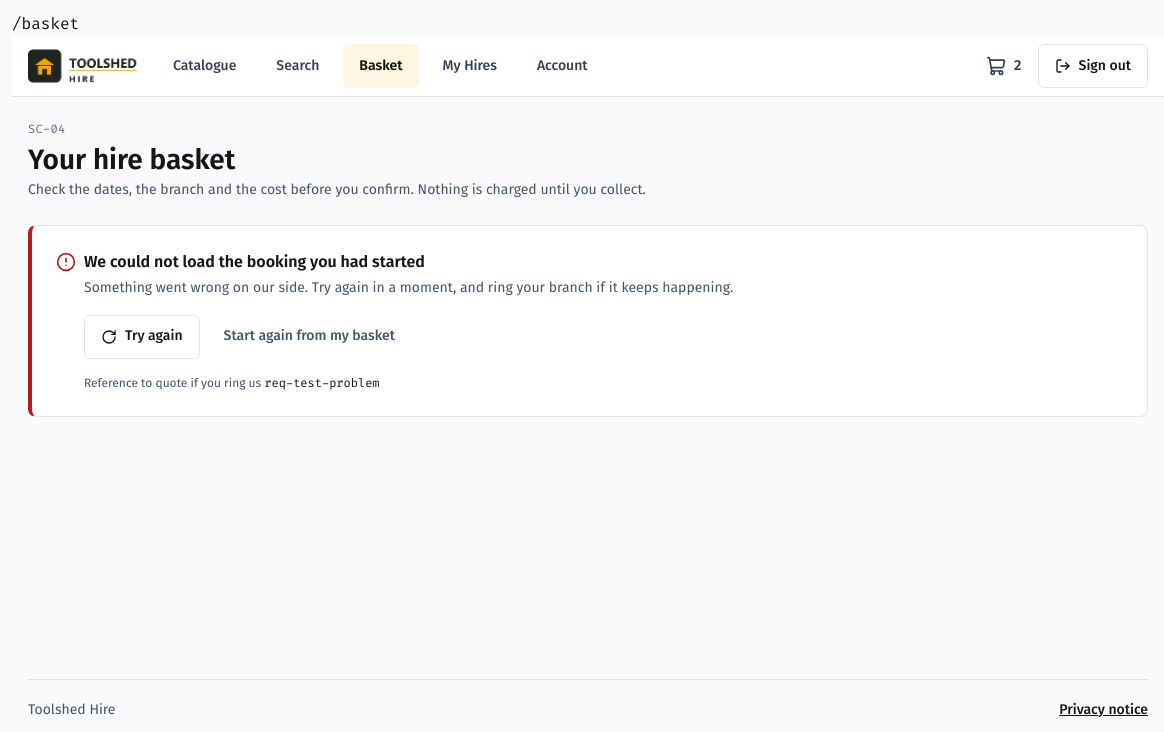
Test: a booking that was under way before a reload › says so when it cannot be read back, and lets the person start again from the basket
The image size is (1164, 732).
Expected: the message shows "We could not load the booking you had started", x1=84 y1=252 x2=425 y2=271
Click the button "Start again from my basket" at (309, 337), box x1=208 y1=315 x2=411 y2=359
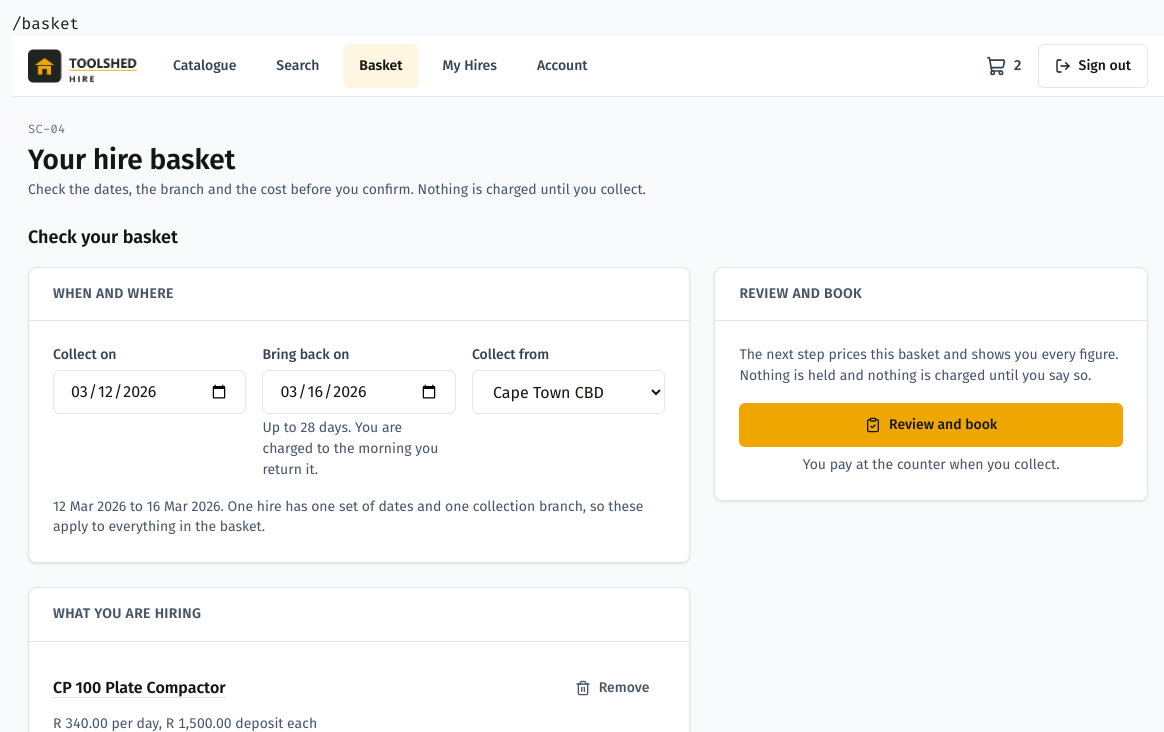
Result: the heading "Check your basket" is shown at x1=28 y1=226 x2=178 y2=248
